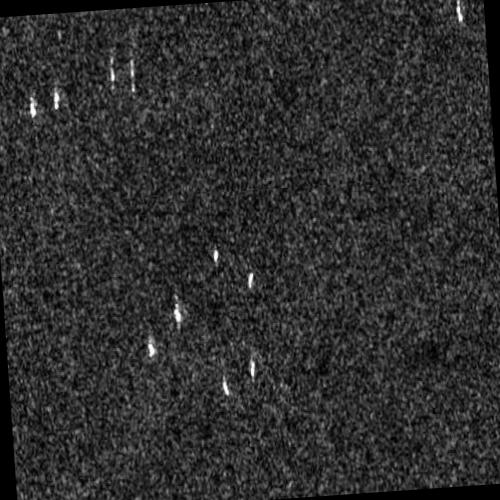ship: (108, 54, 116, 96), (128, 55, 136, 95), (454, 0, 464, 25), (146, 338, 158, 358), (28, 95, 37, 120), (220, 375, 230, 397), (172, 304, 183, 323), (52, 88, 60, 114), (248, 359, 256, 380), (247, 270, 254, 287), (212, 247, 219, 264)
